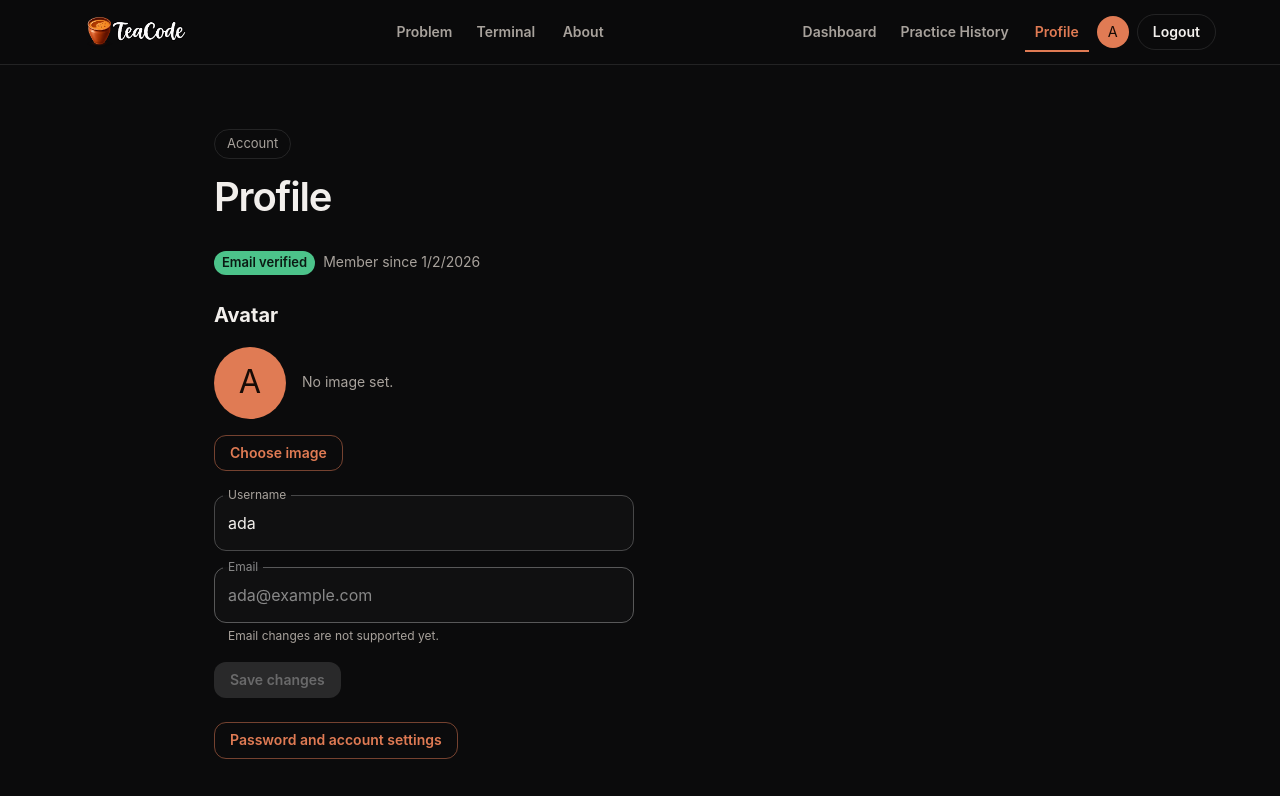
Test: profile › validates the username and surfaces server errors
Replace the text in the field labelled "Username" with "a!" at point(424, 523), box [214,495,634,551]
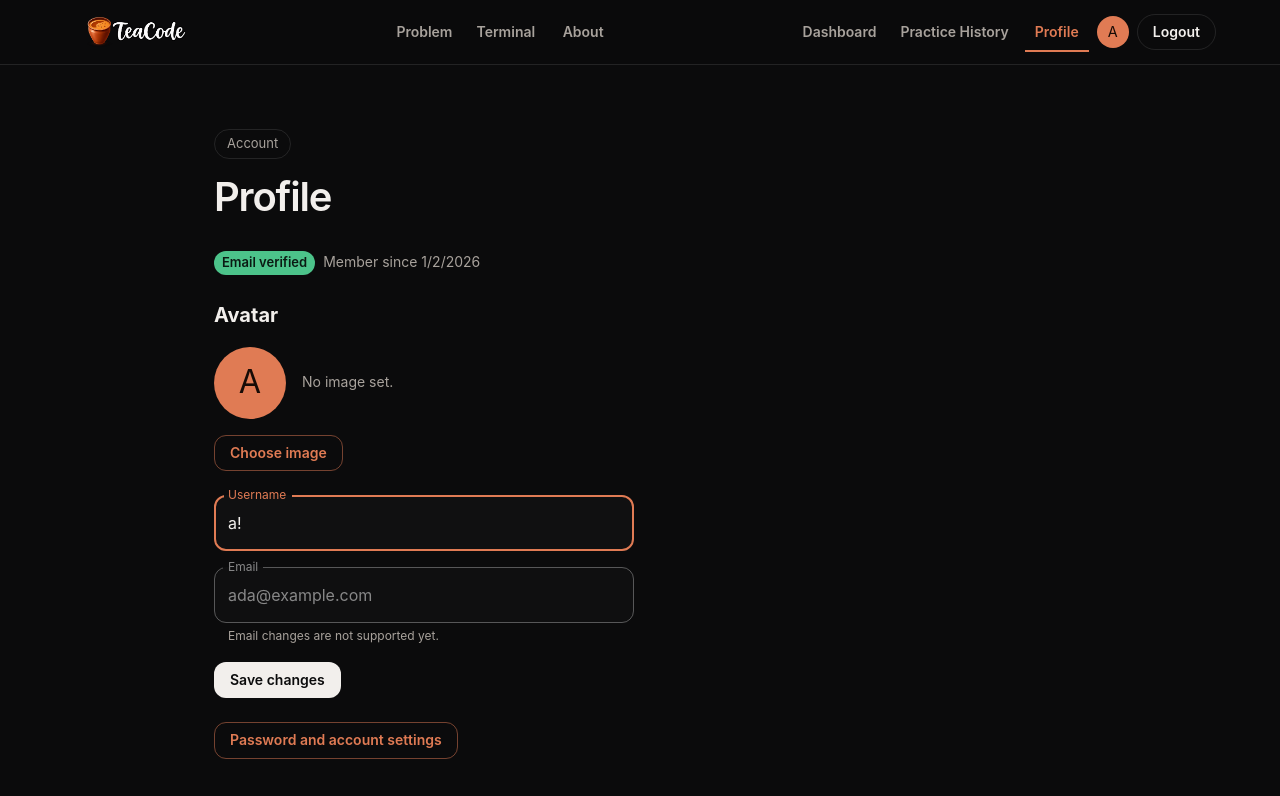
Click the button "Save changes".
click(277, 680)  # box [214,662,341,698]
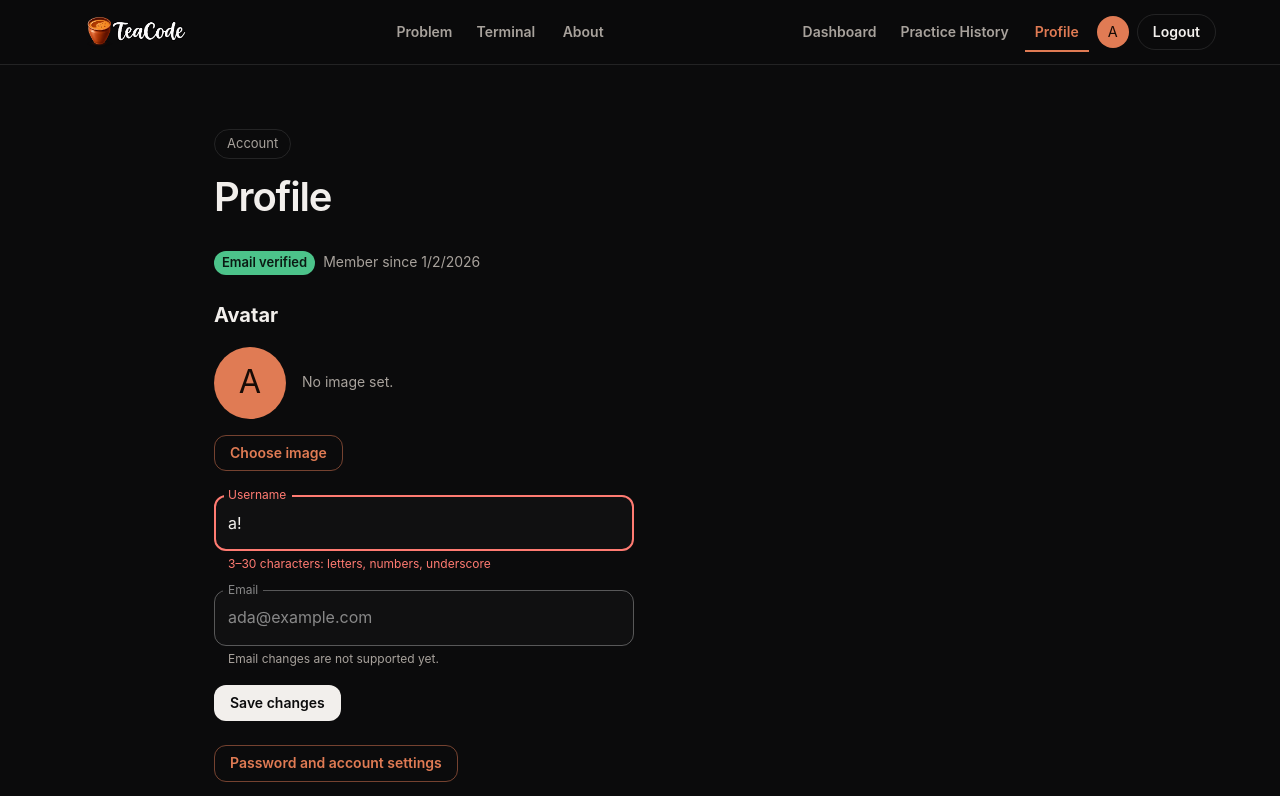
Expected: the text "3–30 characters: letters, numbers, underscore" is shown, [228,556,491,571]
Replace the text in the field labelled "Username" with "taken_name" at point(424, 523), box [214,495,634,551]
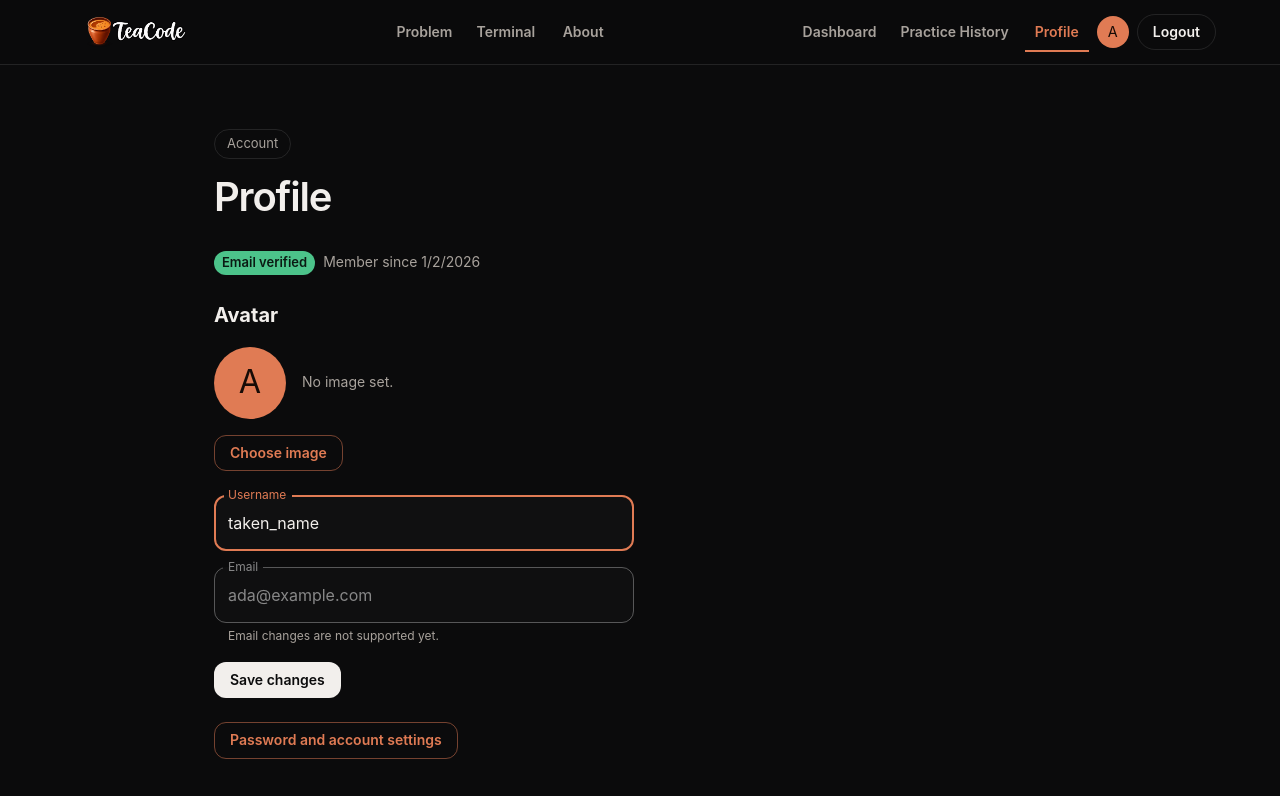
Click the button "Save changes".
click(277, 680)  # box [214,662,341,698]
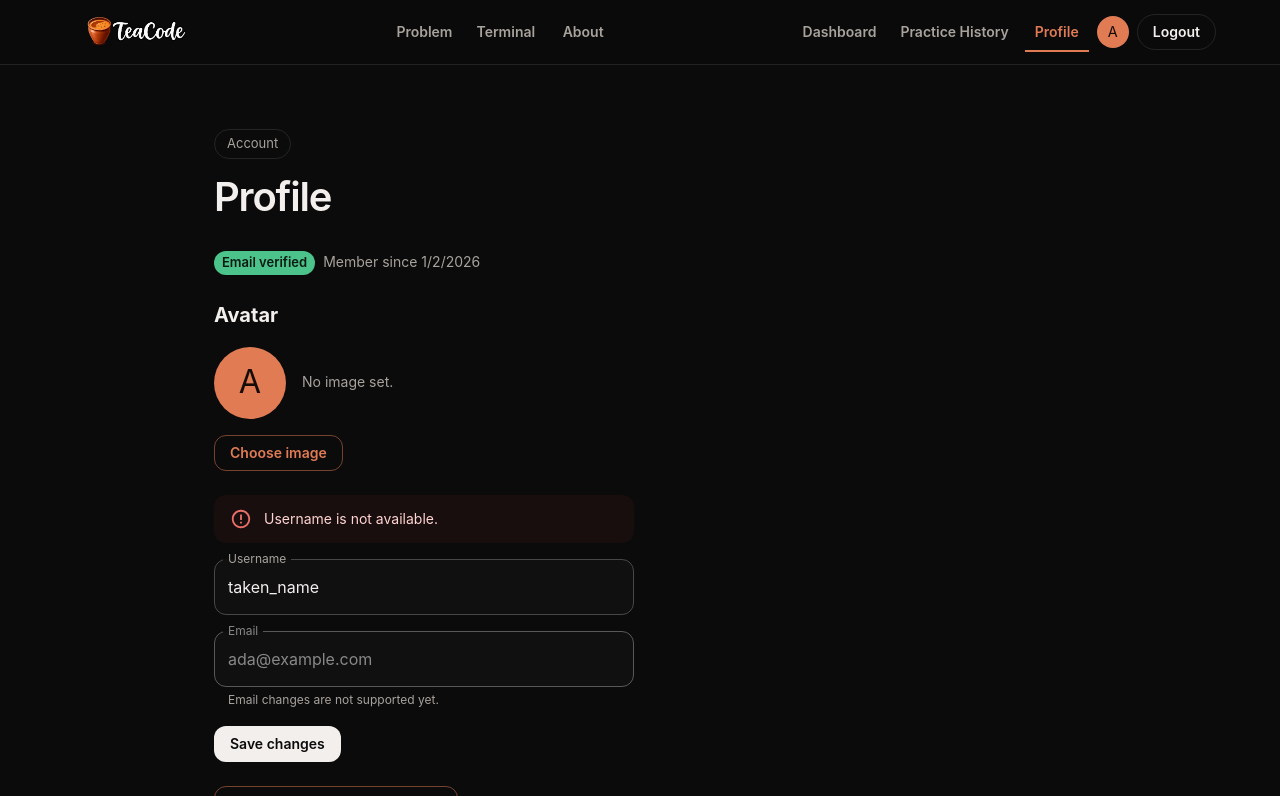
Expected: the text "Username is not available." is shown, [264,510,438,527]
